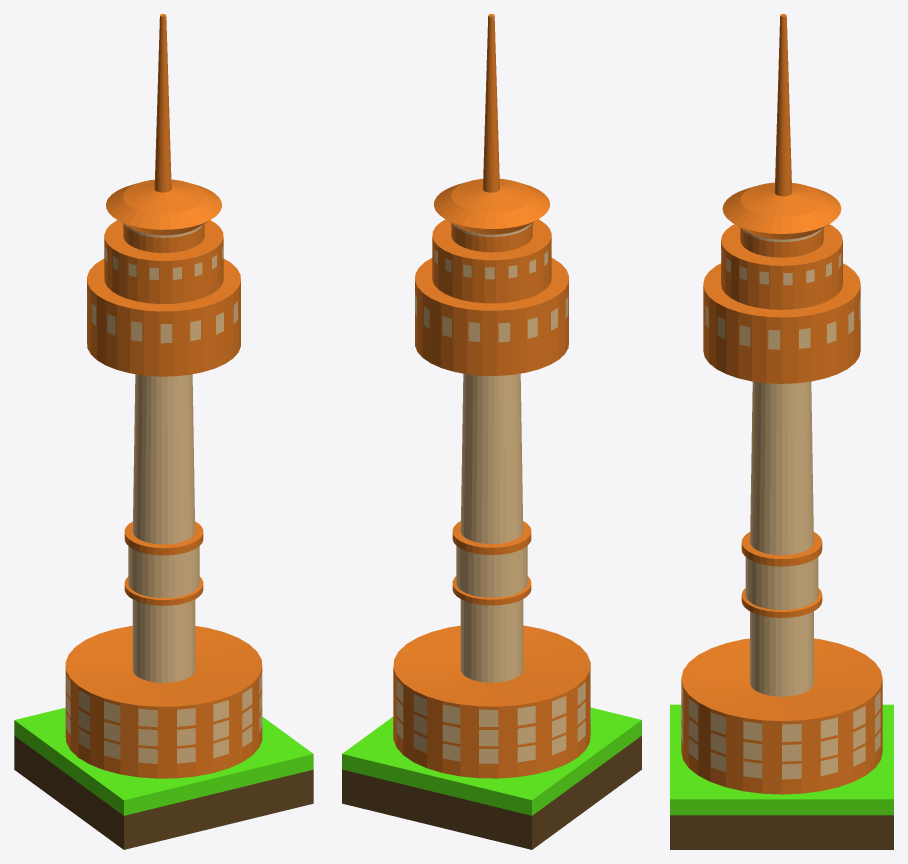
The model's file is Bricks2048.glb.
3 views of the same model, side by side, from view 1: azimuth 30°, elevation 25°; view 2: azimuth 150°, elevation 25°; view 3: azimuth 270°, elevation 25° (orthographic). The views are drawn at different scales.
Visible parts, largest first — view 1: Cylinder, Cube; view 2: Cylinder, Cube; view 3: Cylinder, Cube.
Boxes of the visible parts, <box> form: Cylinder: <box>65,14,262,778</box>; Cube: <box>14,707,313,849</box>; Cylinder: <box>393,14,590,778</box>; Cube: <box>342,707,641,849</box>; Cylinder: <box>681,14,882,794</box>; Cube: <box>670,704,893,849</box>.
Size of the model in its own units: 2 by 7.76 by 2.
